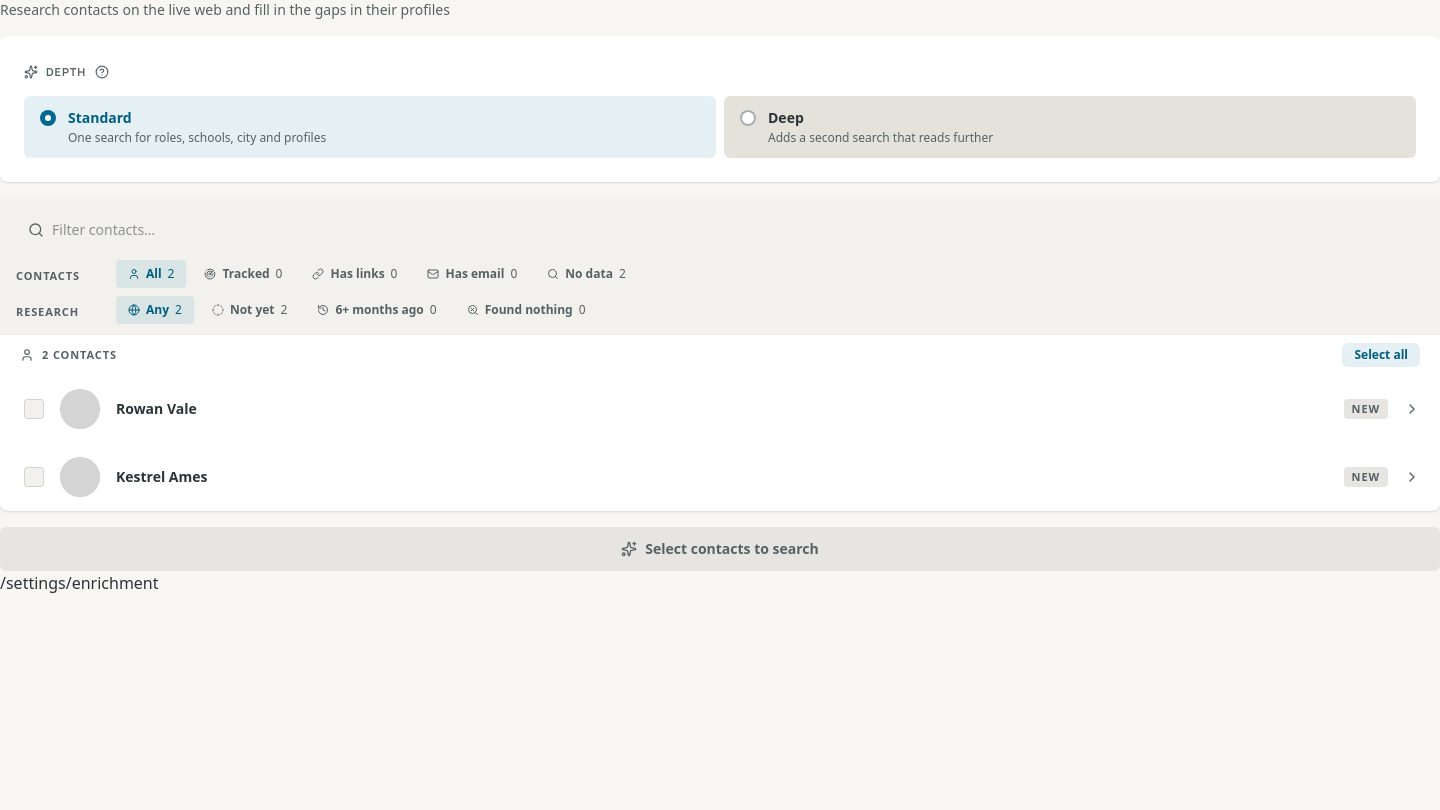
it: the Enrichment tool's engine › names both engines before a batch starts
The image size is (1440, 810).
Click the button "Select all": x=1381, y=355 [1342,343,1420,367]
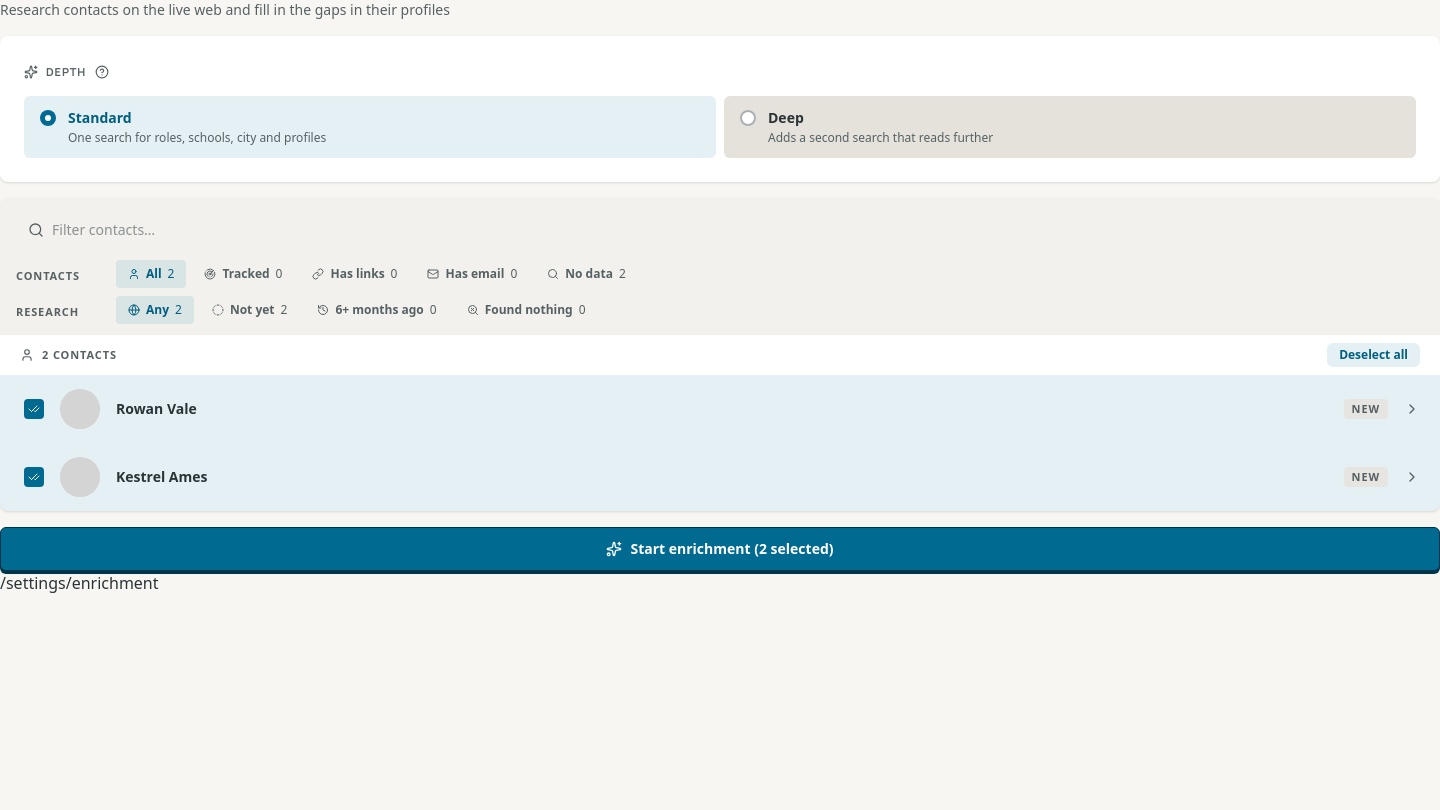
Click the button "Start enrichment (2 selected)": x=720, y=549 [0,527,1439,571]
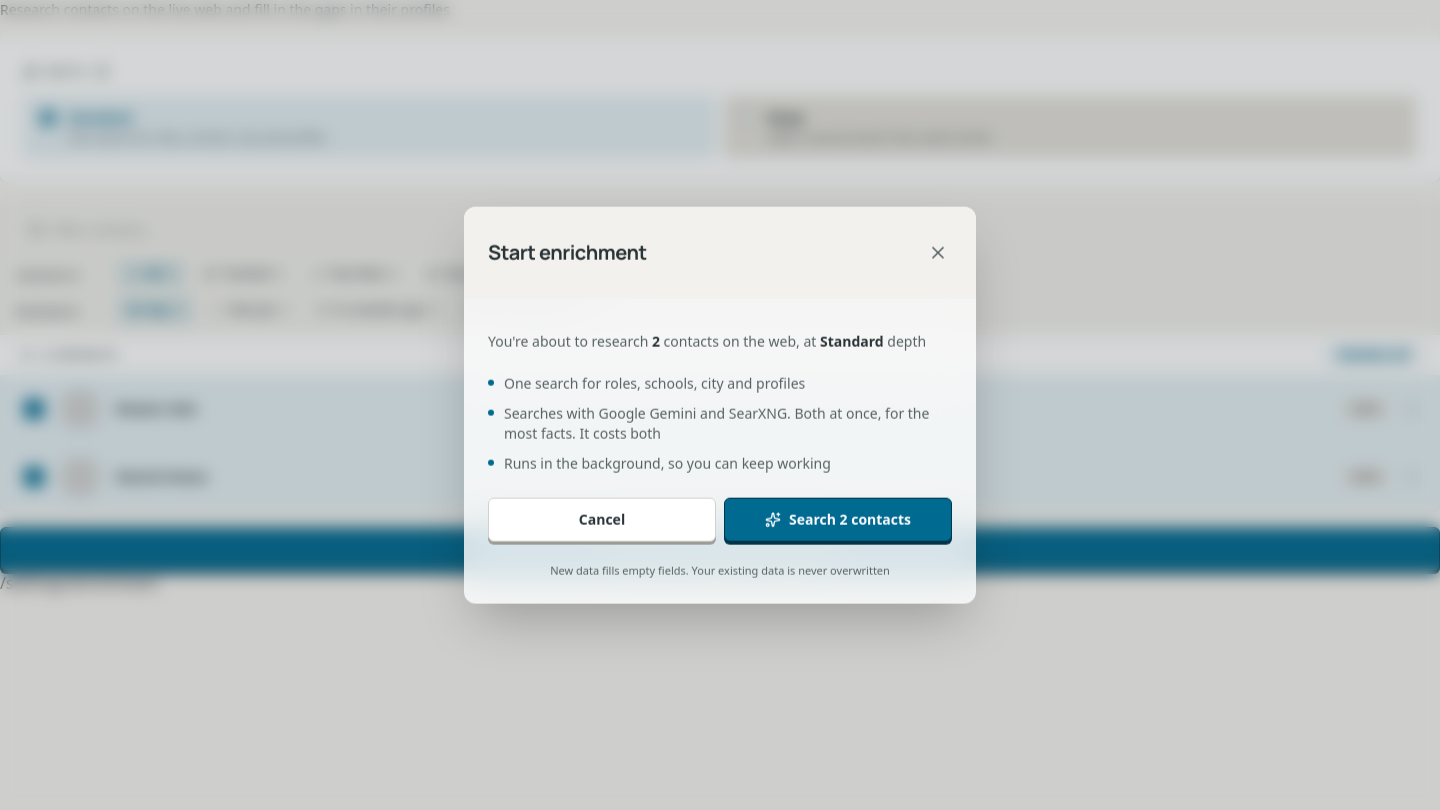
Result: the dialog shows "Searches with Google Gemini and SearXNG" at [504,403,929,442]
